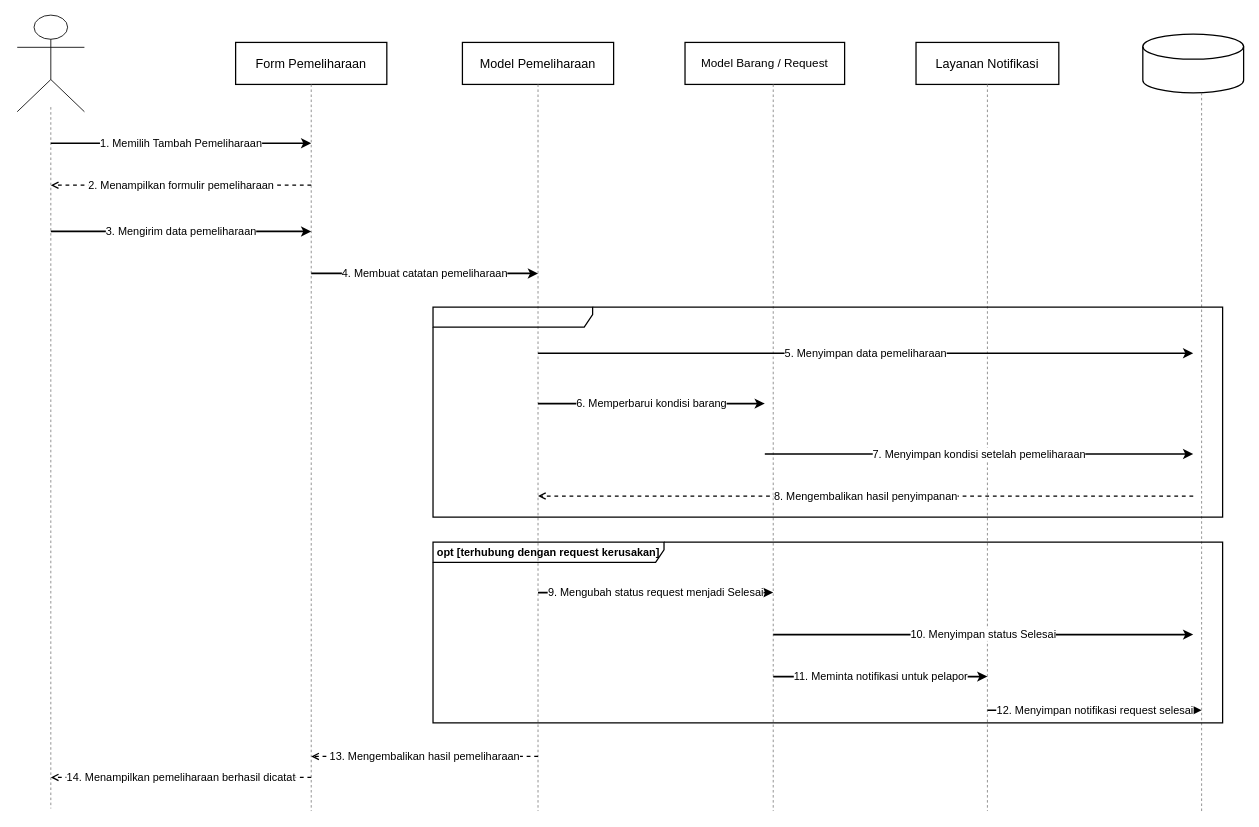
The diagram is 1259 pixels wide and 827 high, and some of its shapes have lost their labels. Each missing label, with the centre of its shape:
"Admin / Staff" goes at point 50,63.
"Database" goes at point 1193,63.
"loop [setiap barang terpilih]" goes at point 827,411.
